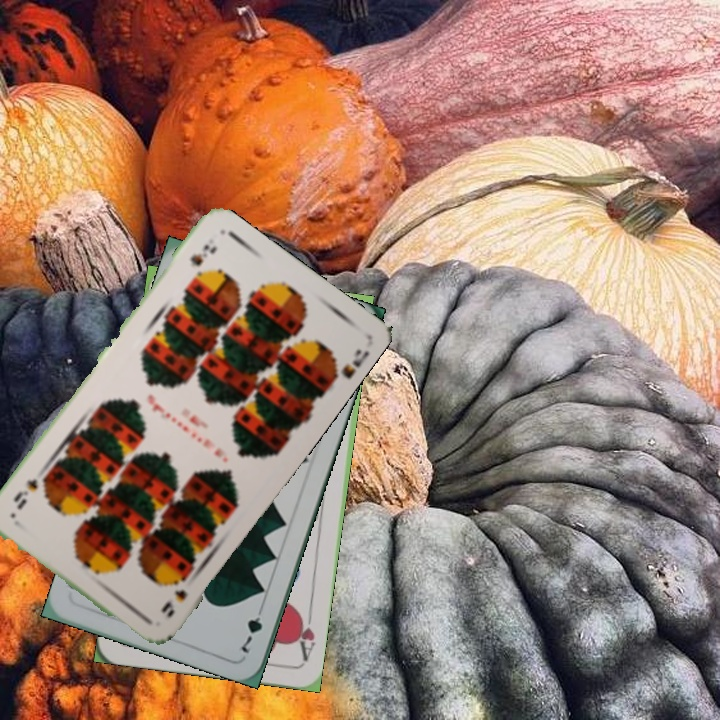G7: (237, 600, 265, 656)
HA: (291, 605, 318, 664)
S9: (157, 570, 192, 621), (186, 239, 218, 270)
